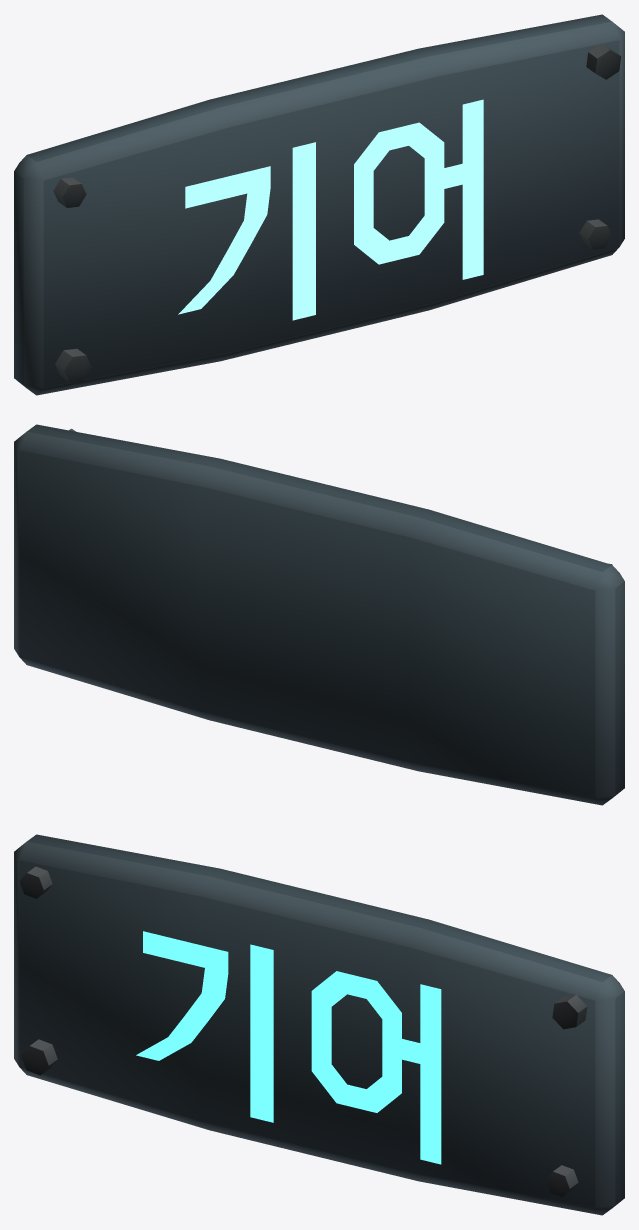
File: sign 2.fbx
3 renders of one model, top to bottom at view 1: azimuth 30°, elevation 25°; view 2: azimuth 150°, elevation 25°; view 3: azimuth 330°, elevation 25°, orthographic.
Parts seen in each view (by area): view 1: metal; view 2: metal; view 3: metal.
Part boxes in pixels (left/top/right/bottom): metal: left=14, top=14, right=624, bottom=395; metal: left=14, top=424, right=624, bottom=805; metal: left=14, top=834, right=624, bottom=1215.
Bounding box in the file's own units: 878 × 354 × 87.95.
